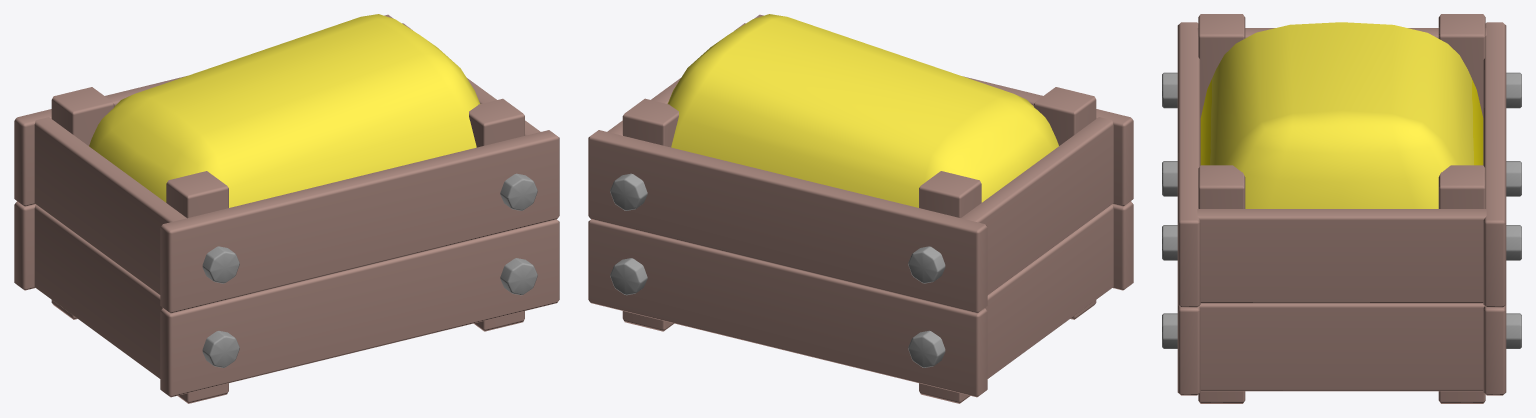
Rendered from Farm_1_Full_Box_1.glb.
3 views of the same model, side by side, from view 1: azimuth 30°, elevation 25°; view 2: azimuth 150°, elevation 25°; view 3: azimuth 270°, elevation 25° (orthographic). The views are drawn at different scales.
Visible parts, largest first — view 1: Farm_1_Full_Box_1; view 2: Farm_1_Full_Box_1; view 3: Farm_1_Full_Box_1.
Part boxes in pixels (x1=…): Farm_1_Full_Box_1: x1=14, y1=14, x2=559, y2=403; Farm_1_Full_Box_1: x1=588, y1=14, x2=1133, y2=403; Farm_1_Full_Box_1: x1=1162, y1=14, x2=1521, y2=403.
Size of the model in its own units: 0.8404 by 0.5177 by 0.6381.
Materials: 1 (1 with a texture image).
